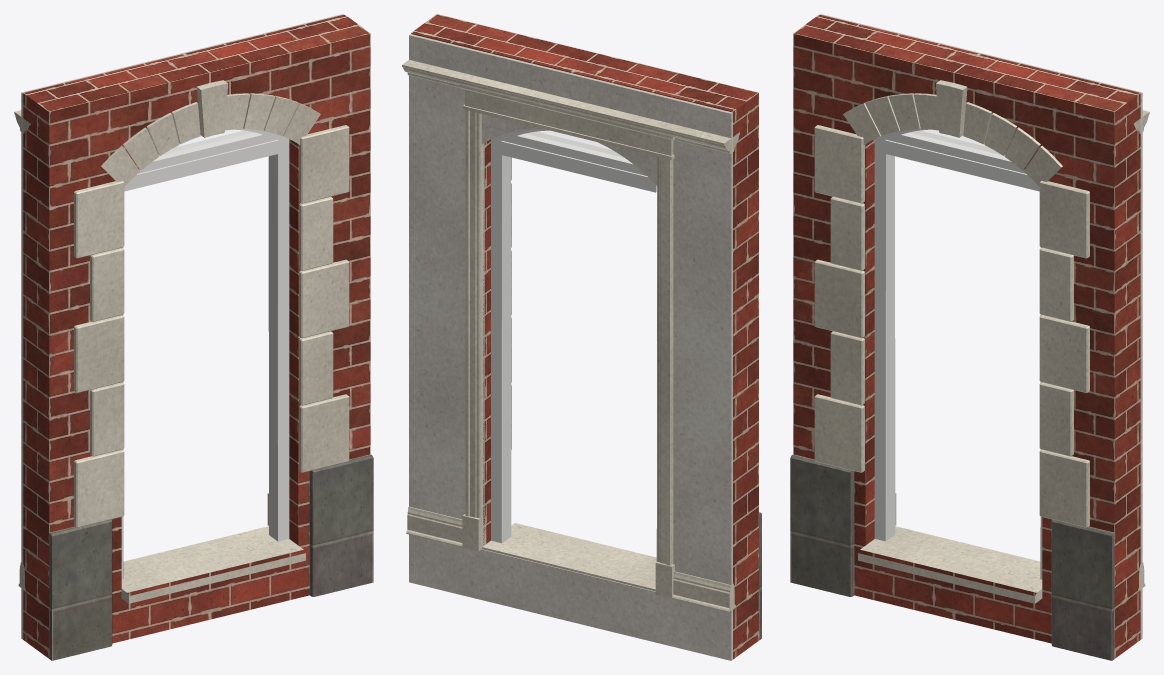
File: o_g_door.glb
3 renders of one model, left to right at view 1: azimuth 30°, elevation 25°; view 2: azimuth 150°, elevation 25°; view 3: azimuth 330°, elevation 25°, orthographic.
Parts seen in each view (by area): view 1: o_g_door_brick, o_g_door_trim, o_g_door_plinth, o_g_door_frame, o_g_door_plaster; view 2: o_g_door_plaster, molduras, o_g_door_brick, o_g_door_frame, o_g_door_trim, o_g_door_glass; view 3: o_g_door_brick, o_g_door_trim, o_g_door_plinth, o_g_door_frame, o_g_door_plaster.
Boxes of the visible parts, <box> form: o_g_door_brick: <box>23,14,370,658</box>; o_g_door_trim: <box>74,80,349,603</box>; o_g_door_plinth: <box>49,454,373,660</box>; o_g_door_frame: <box>121,128,289,579</box>; o_g_door_plaster: <box>21,14,343,639</box>; o_g_door_plaster: <box>409,34,732,660</box>; molduras: <box>402,59,739,612</box>; o_g_door_brick: <box>411,14,758,659</box>; o_g_door_frame: <box>491,129,657,561</box>; o_g_door_trim: <box>482,157,656,591</box>; o_g_door_glass: <box>527,131,621,156</box>; o_g_door_brick: <box>793,14,1140,658</box>; o_g_door_trim: <box>814,80,1089,603</box>; o_g_door_plinth: <box>790,454,1114,660</box>; o_g_door_frame: <box>874,128,1042,579</box>; o_g_door_plaster: <box>820,14,1142,639</box>.
Size of the model in its own units: 2 by 3.25 by 0.455.
Materials: 6 (4 with a texture image).
